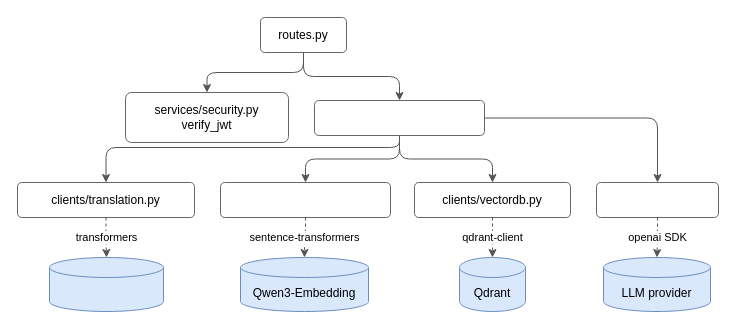
The diagram is 736 pixels wide and 329 high, and some of its shapes have lost their labels. Each missing label, with the centre of its shape:
clients/embeddings.py: point (305, 200)
clients/llm.py: point (657, 200)
Marian models: point (106, 284)
services/retrieval.py: point (399, 118)
